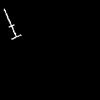double_crochet: (4, 9, 20, 38)
